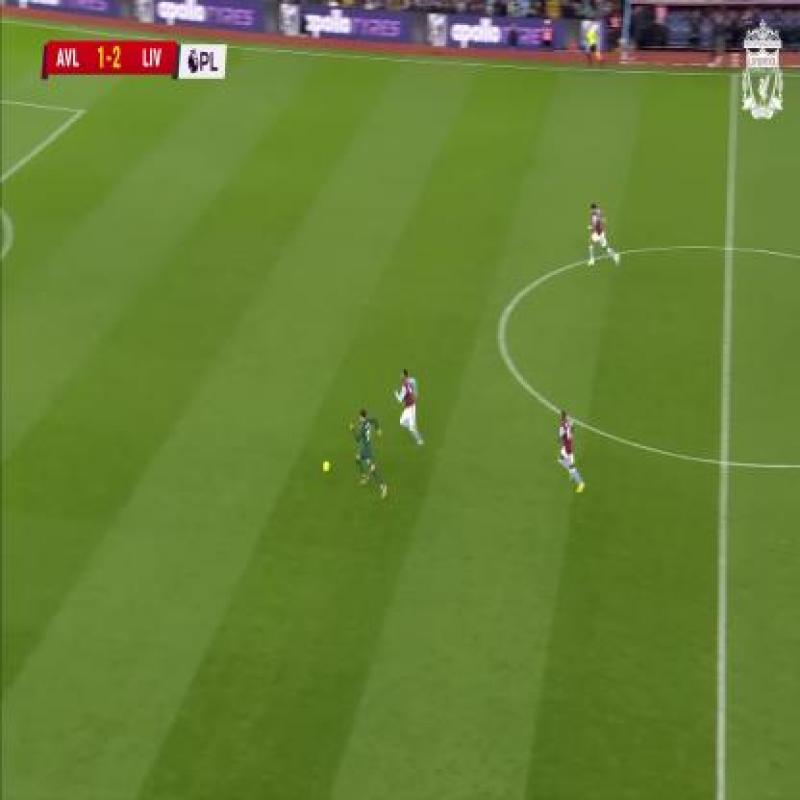13: (725, 55, 748, 94)
14: (716, 225, 748, 275)
15: (706, 436, 742, 490)
9: (69, 88, 98, 134)
c: (477, 293, 530, 357)
